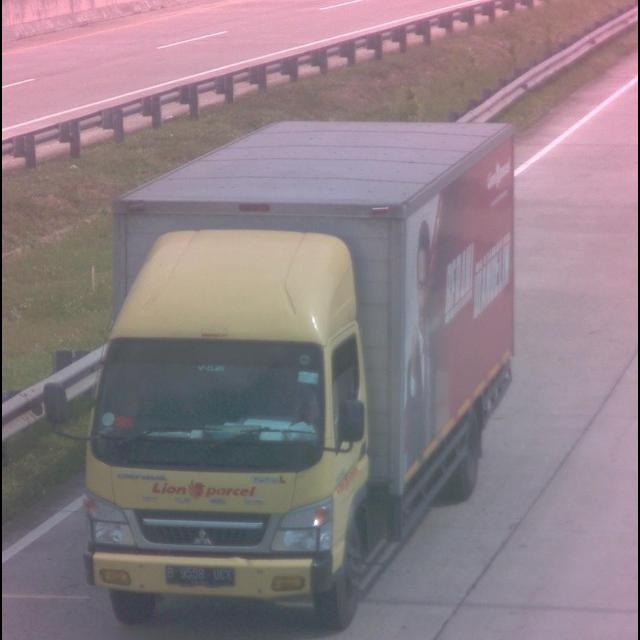plate: (162, 564, 236, 588)
